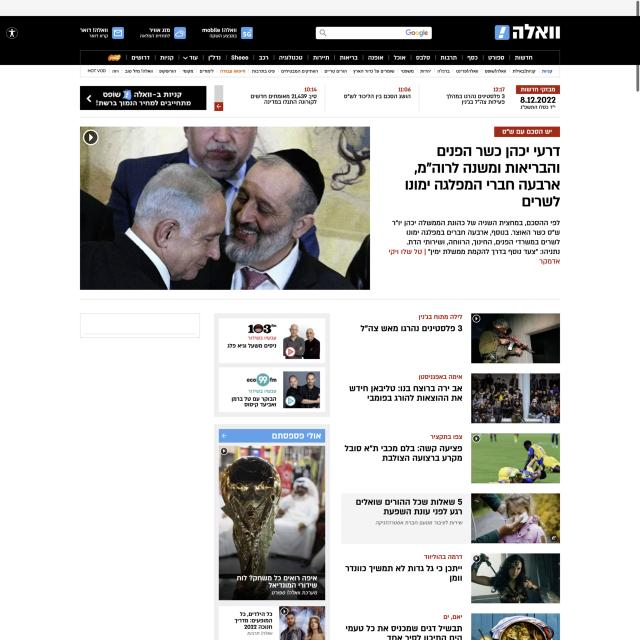input: (315, 26, 433, 40)
logo: (491, 22, 564, 43)
navigation: (82, 64, 560, 78), (125, 52, 561, 64)
video: (80, 126, 370, 290), (219, 446, 325, 600), (471, 313, 560, 364), (472, 433, 560, 483), (471, 554, 560, 603)
